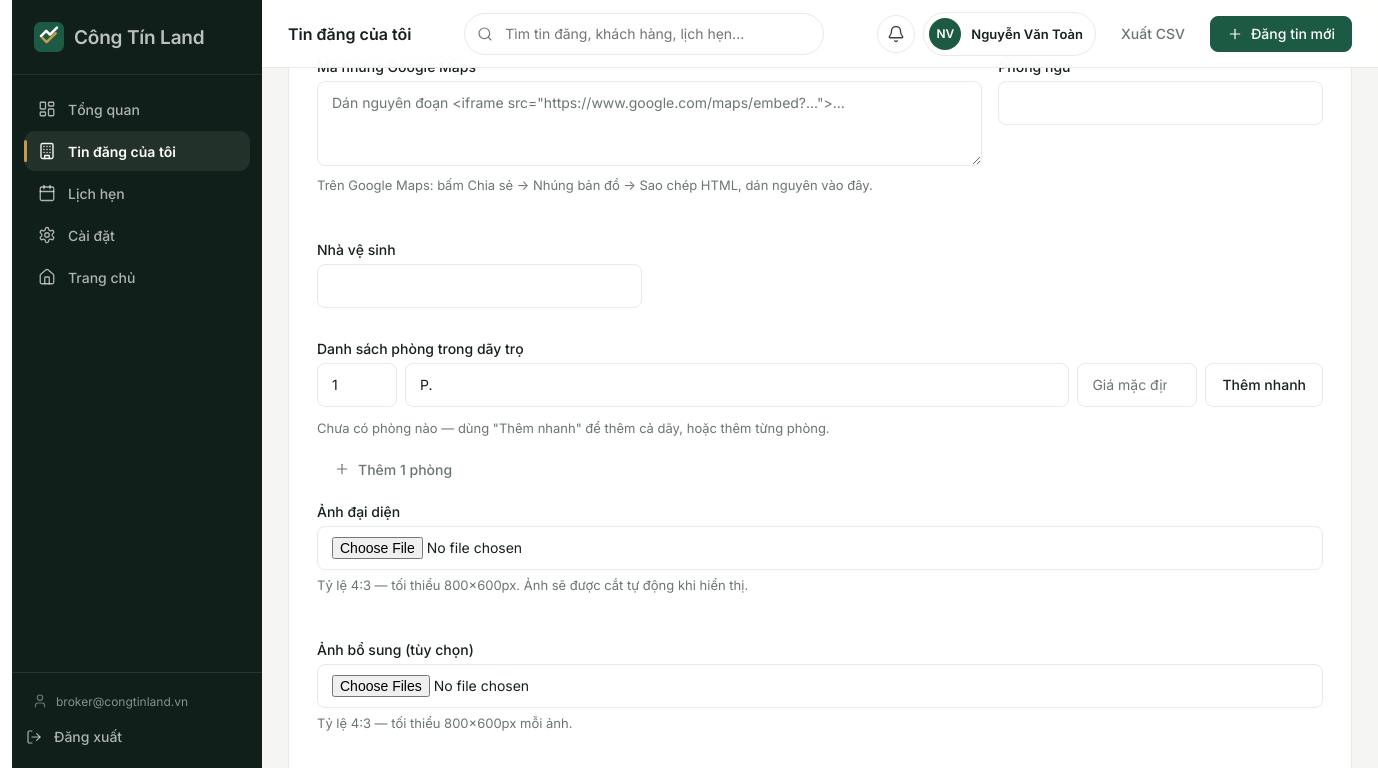
it: Listing form — room list (dãy trọ) › Thêm nhanh generates N rooms with zero-padded, continuing labels
(page scrolled)
Check: the text "Chưa có phòng nào" is shown, box 317,420 -> 830,436
Step 1. Clear the number field named "Số lượng phòng thêm nhanh" → (357, 384), box 317,362 -> 397,406
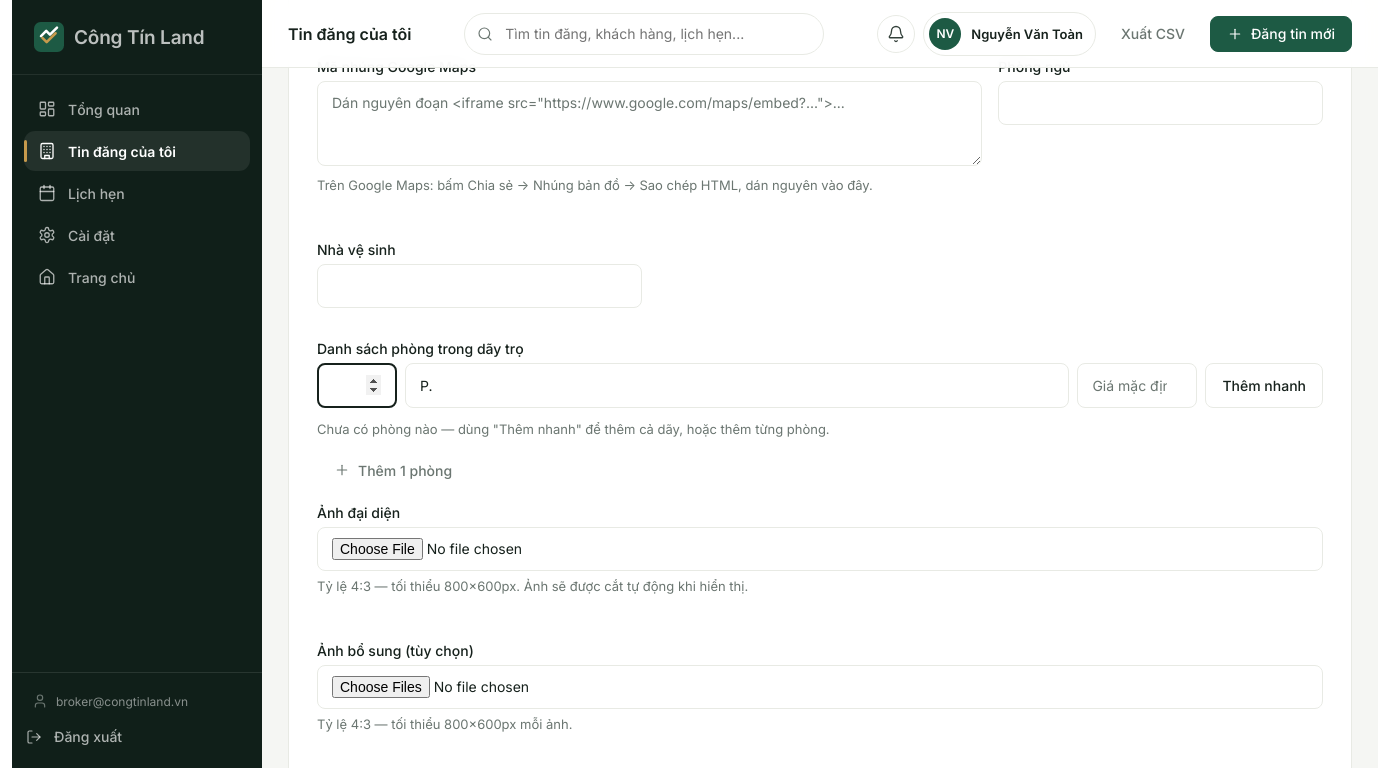
Step 2. Type "3" into the number field named "Số lượng phòng thêm nhanh" → (357, 385), box 317,362 -> 397,408
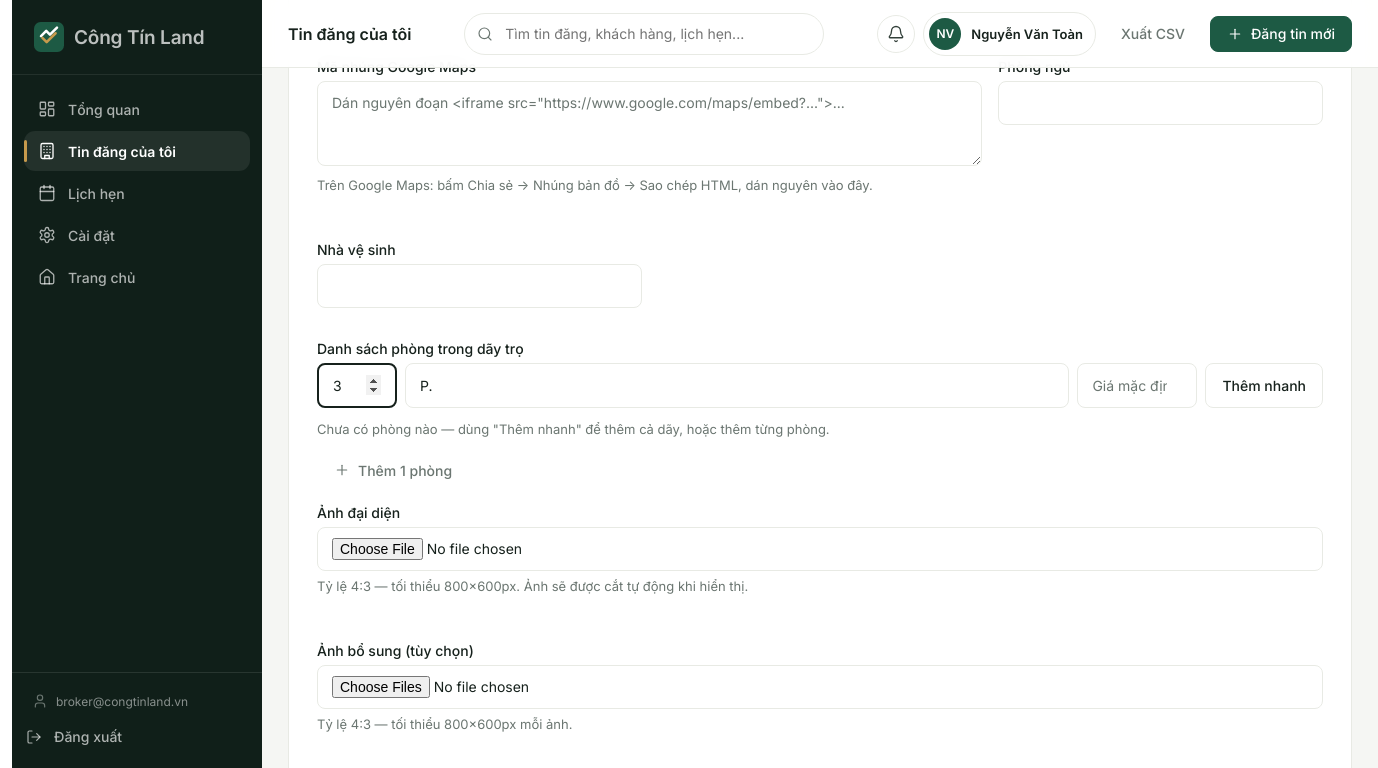
Step 3. Click the button "Thêm nhanh" → (1264, 385), box 1205,362 -> 1323,408
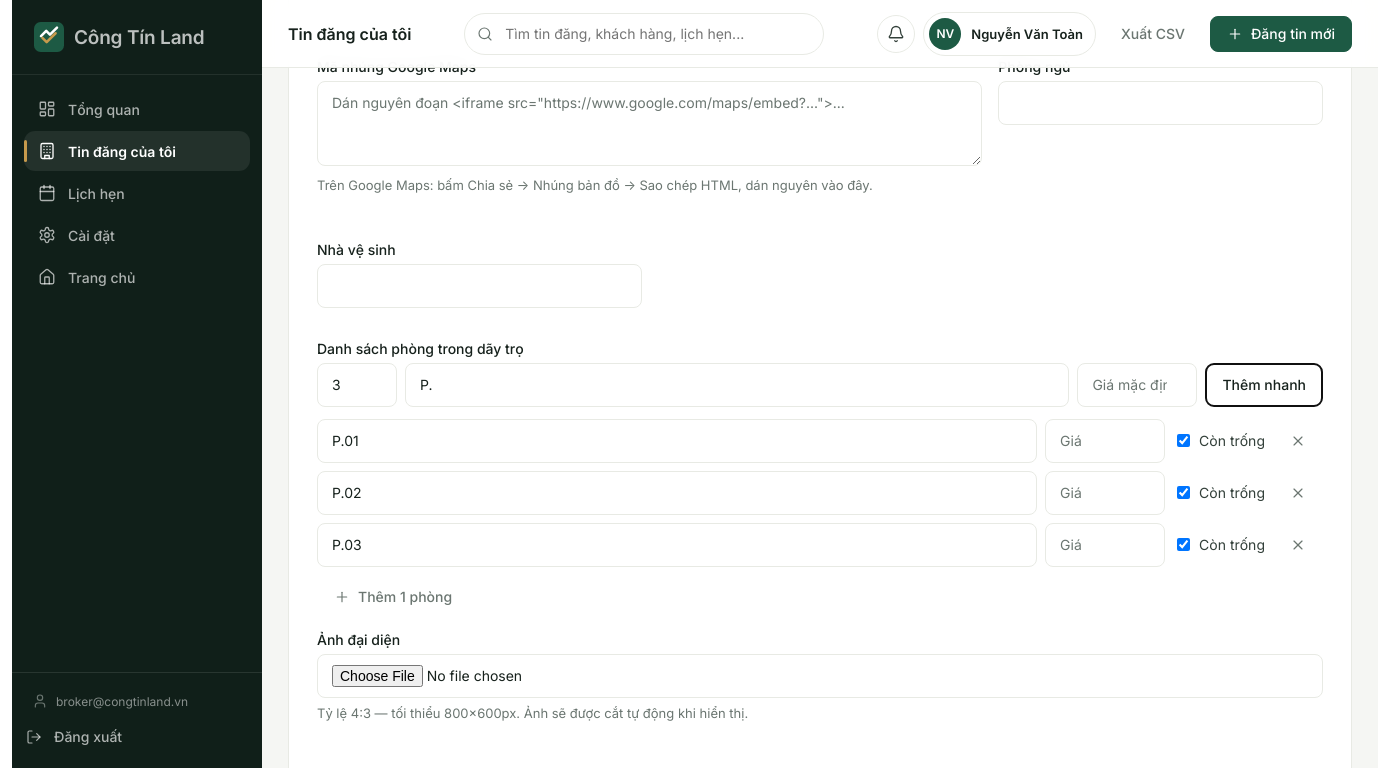
Check: the field named "Tên phòng 1" holds "P.01", box 317,418 -> 1037,462
Check: the field named "Tên phòng 2" holds "P.02", box 317,470 -> 1037,514
Check: the field named "Tên phòng 3" holds "P.03", box 317,522 -> 1037,566
